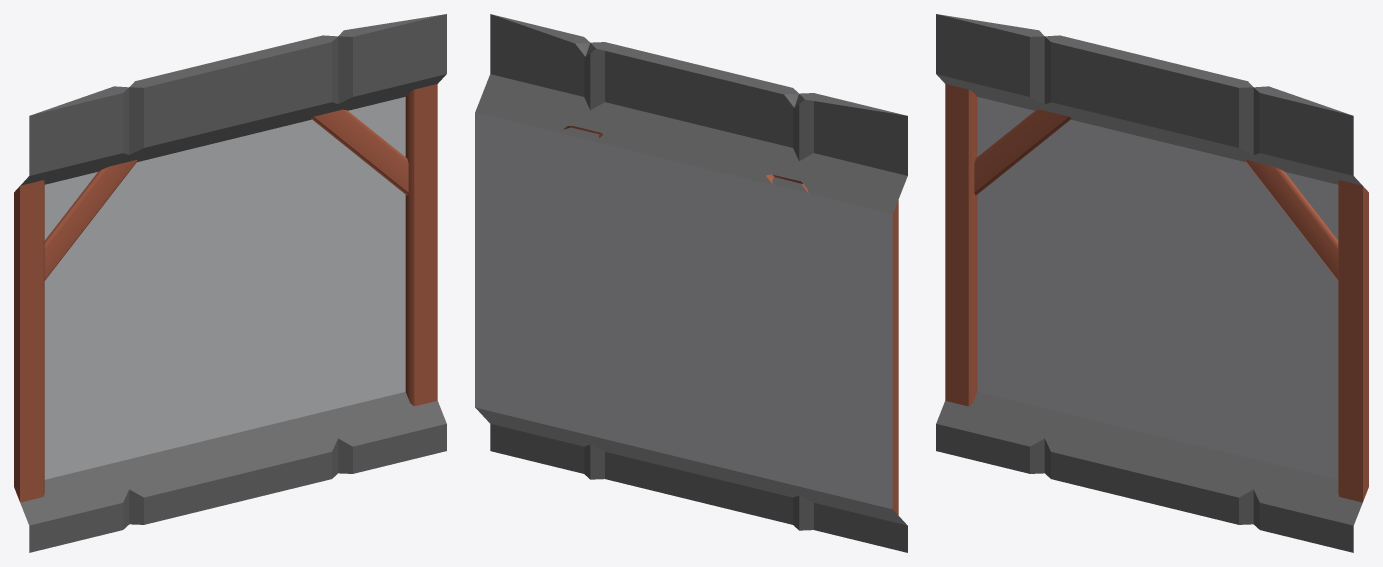
The model's file is Wall_Scaffold.fbx.
The picture shows the model from 3 angles, left to right: view 1: azimuth 30°, elevation 25°; view 2: azimuth 150°, elevation 25°; view 3: azimuth 330°, elevation 25°; orthographic projection.
Parts seen in each view (by area): view 1: Wall_Scaffold; view 2: Wall_Scaffold; view 3: Wall_Scaffold.
Boxes of the visible parts, x1=… form: Wall_Scaffold: x1=14, y1=14, x2=446, y2=552; Wall_Scaffold: x1=475, y1=14, x2=907, y2=552; Wall_Scaffold: x1=936, y1=14, x2=1368, y2=552.
Bounding box in the file's own units: 1.47 × 1.47 × 0.0921.
Materials: 1 (1 with a texture image).
